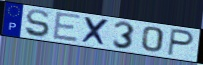0: (141, 25, 166, 54)
3: (112, 21, 137, 51)
E: (52, 11, 83, 43)
P: (166, 27, 195, 57)
S: (24, 9, 51, 39)
X: (80, 15, 111, 48)
